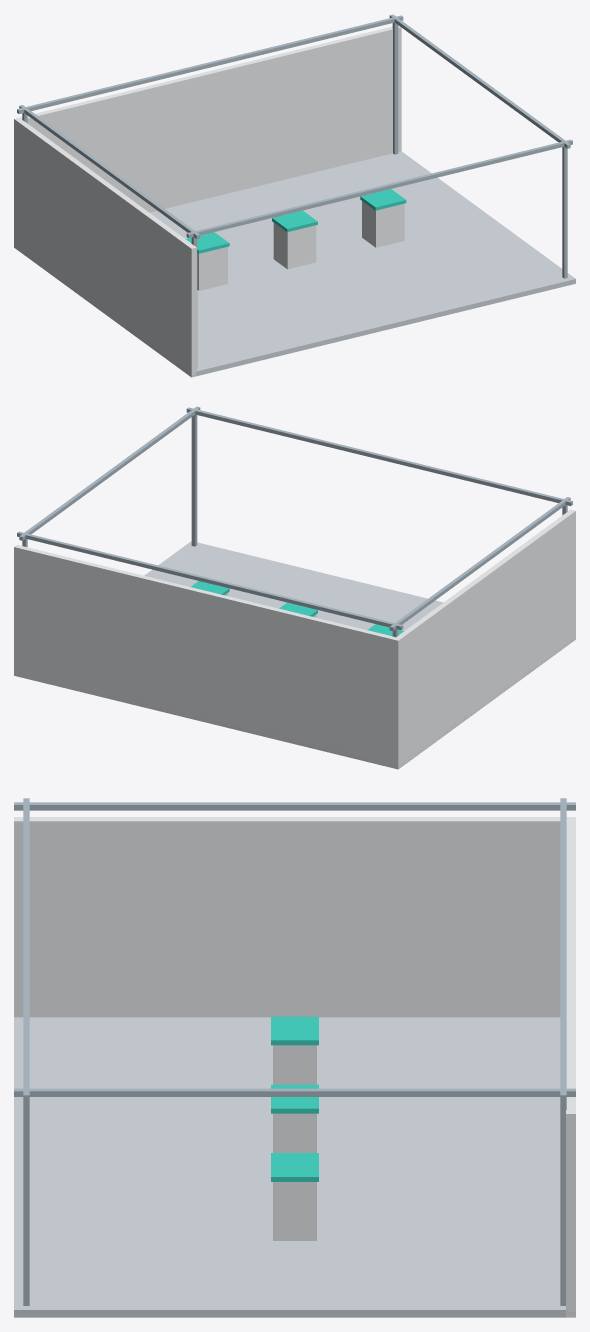
The picture shows the model from 3 angles, top to bottom: view 1: azimuth 30°, elevation 25°; view 2: azimuth 150°, elevation 25°; view 3: azimuth 270°, elevation 25°; orthographic projection. The views are drawn at different scales.
Parts seen in each view (by area): view 1: Exhibition Booth Concept; view 2: Exhibition Booth Concept; view 3: Exhibition Booth Concept.
Boxes of the visible parts, x1=… form: Exhibition Booth Concept: x1=14, y1=14, x2=575, y2=377; Exhibition Booth Concept: x1=14, y1=406, x2=575, y2=769; Exhibition Booth Concept: x1=14, y1=798, x2=575, y2=1317.
Bounding box in the file's own units: 10 × 3.49 × 8.
